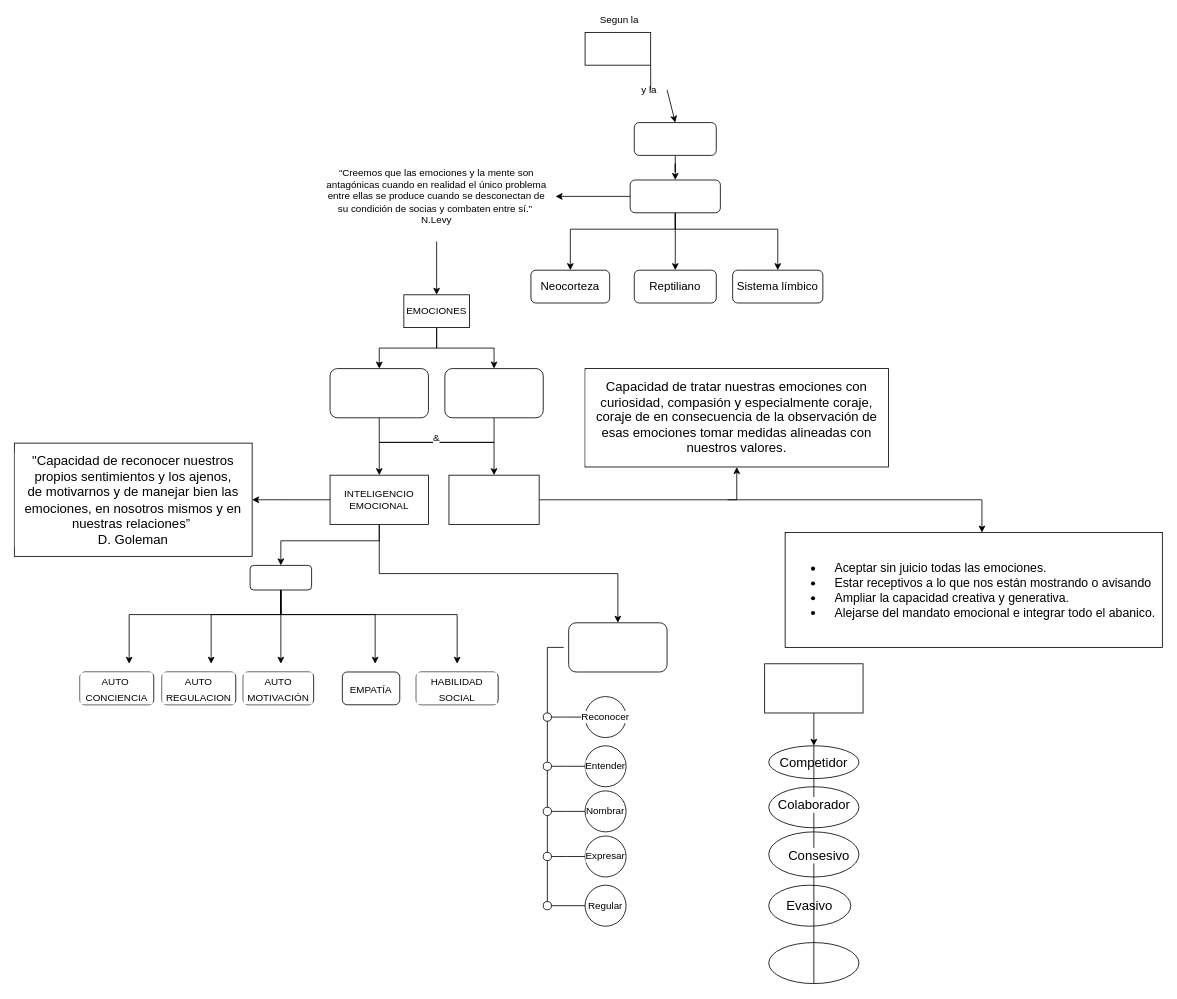
Image size: 1177x999. Some labels were removed from this diagram. Each missing label, with the centre of its shape:
"AGILIDAD EMOCIONAL" goes at [493,499].
"Cerebro triúnico" goes at [674,196].
"Claves" goes at [280,577].
"Complaciente" goes at [813,963].
"EVOLUCIÓN" goes at [617,48].
"Impulso que induce a la acción." goes at [378,393].
"Modelo RENER" goes at [617,647].
"Respuesta fisiológica a los estímulos del entorno" goes at [493,393].
"Teoría de Paul MacLean" goes at [674,138].
"Test de Kilman" goes at [813,688].
